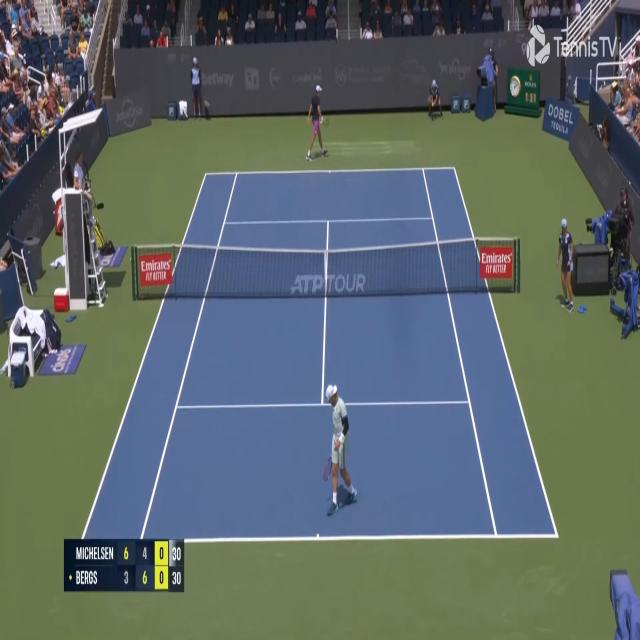tennis-player: (322, 379, 360, 515), (306, 82, 330, 163)
